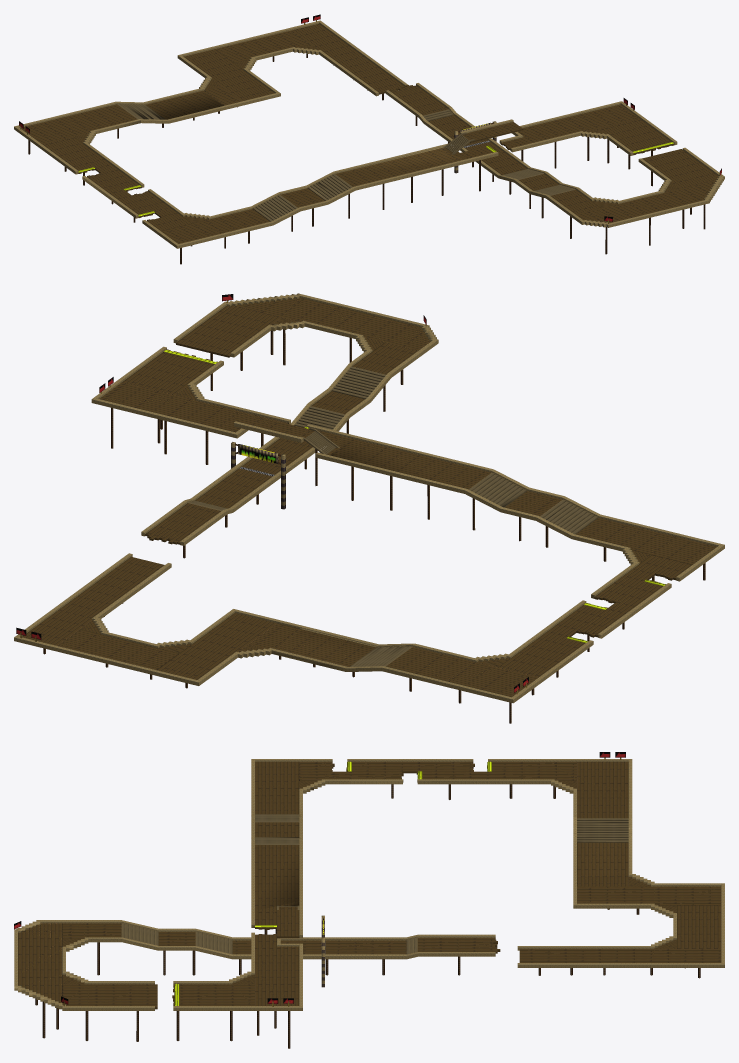
3 views of the same model, one above another, from view 1: azimuth 30°, elevation 25°; view 2: azimuth 150°, elevation 25°; view 3: azimuth 270°, elevation 25° (orthographic). The views are drawn at different scales.
Visible parts, largest first — view 1: RMX_Ghost_Valley_1_SKP__o_ita, RMX_Ghost_Valley_1_SKP__Block, RMX_Ghost_Valley_1_SKP__plank, RMX_Ghost_Valley_1_SKP__o_hasira; view 2: RMX_Ghost_Valley_1_SKP__o_ita, RMX_Ghost_Valley_1_SKP__Block, RMX_Ghost_Valley_1_SKP__plank, RMX_Ghost_Valley_1_SKP__o_hasira; view 3: RMX_Ghost_Valley_1_SKP__o_ita, RMX_Ghost_Valley_1_SKP__Block, RMX_Ghost_Valley_1_SKP__plank, RMX_Ghost_Valley_1_SKP__o_hasira.
Part boxes in pixels (x1,y1,x2,y2): RMX_Ghost_Valley_1_SKP__o_ita: (20,24,718,243); RMX_Ghost_Valley_1_SKP__Block: (14,20,724,248); RMX_Ghost_Valley_1_SKP__plank: (117,103,575,221); RMX_Ghost_Valley_1_SKP__o_hasira: (28,53,705,264); RMX_Ghost_Valley_1_SKP__o_ita: (22,297,716,697); RMX_Ghost_Valley_1_SKP__Block: (14,293,724,703); RMX_Ghost_Valley_1_SKP__plank: (188,366,598,666); RMX_Ghost_Valley_1_SKP__o_hasira: (43,329,705,723); RMX_Ghost_Valley_1_SKP__o_ita: (18,762,721,1009); RMX_Ghost_Valley_1_SKP__Block: (14,759,724,1010); RMX_Ghost_Valley_1_SKP__plank: (121,814,628,954); RMX_Ghost_Valley_1_SKP__o_hasira: (35,784,700,1048).
Size of the model in its own units: 55250 by 5475 by 62424.
10 materials, 9 textured.
